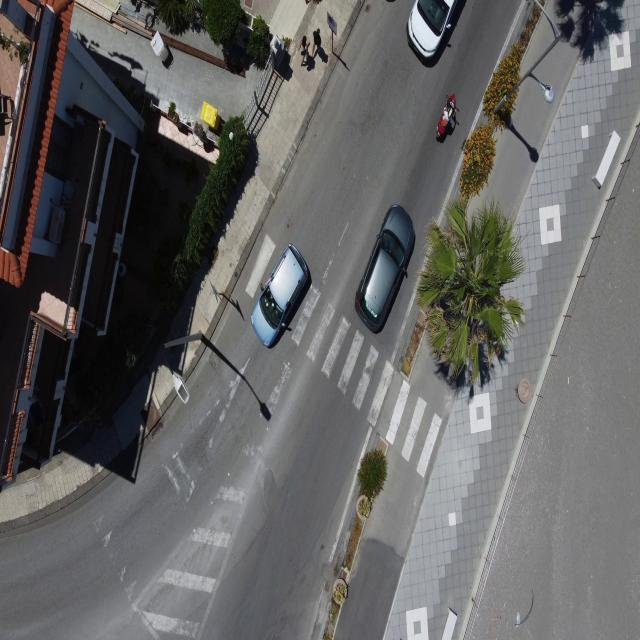Car: (353, 202, 417, 335), (249, 240, 312, 354)
Cycle: (435, 91, 459, 142)
Van: (405, 0, 461, 65)
